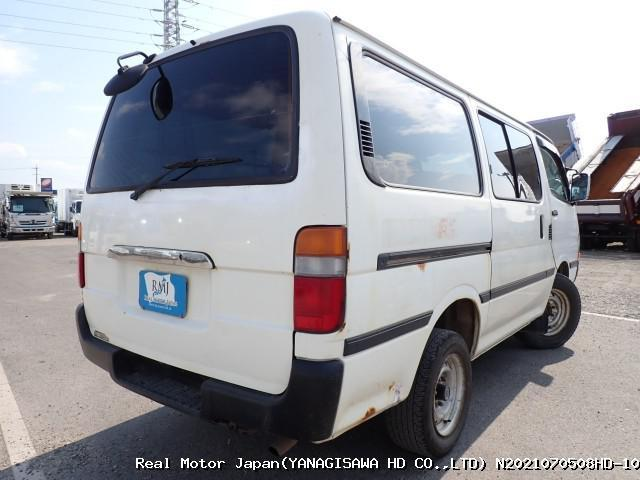Van: (75, 20, 589, 456)
